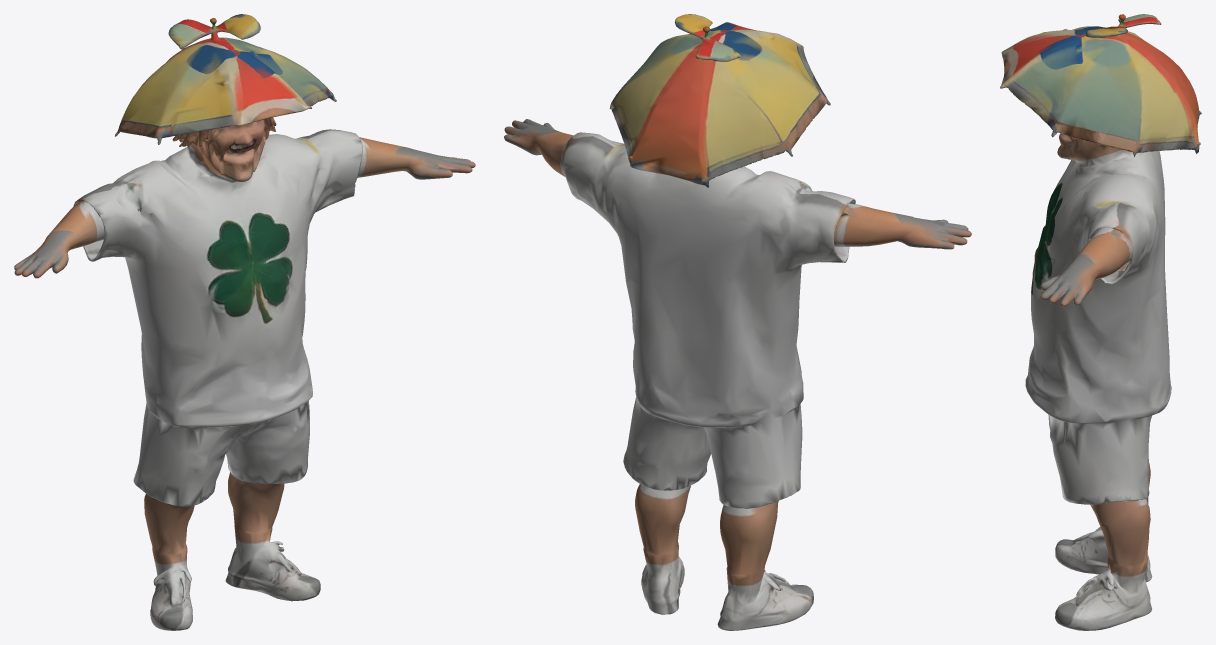
Rendered from lucky.glb.
The picture shows the model from 3 angles, left to right: view 1: azimuth 30°, elevation 25°; view 2: azimuth 150°, elevation 25°; view 3: azimuth 270°, elevation 25°; orthographic projection.
Visible parts, largest first — view 1: tripo_node_f39db0b0-6b88-4b8d-9cdc-231b85e2eddd; view 2: tripo_node_f39db0b0-6b88-4b8d-9cdc-231b85e2eddd; view 3: tripo_node_f39db0b0-6b88-4b8d-9cdc-231b85e2eddd.
Part boxes in pixels (left/top/right/bottom): tripo_node_f39db0b0-6b88-4b8d-9cdc-231b85e2eddd: left=14, top=14, right=475, bottom=630; tripo_node_f39db0b0-6b88-4b8d-9cdc-231b85e2eddd: left=504, top=14, right=971, bottom=630; tripo_node_f39db0b0-6b88-4b8d-9cdc-231b85e2eddd: left=1000, top=14, right=1201, bottom=630.
Bounding box in the file's own units: 0.8263 × 0.9997 × 0.3155.
1 material, 1 textured.
